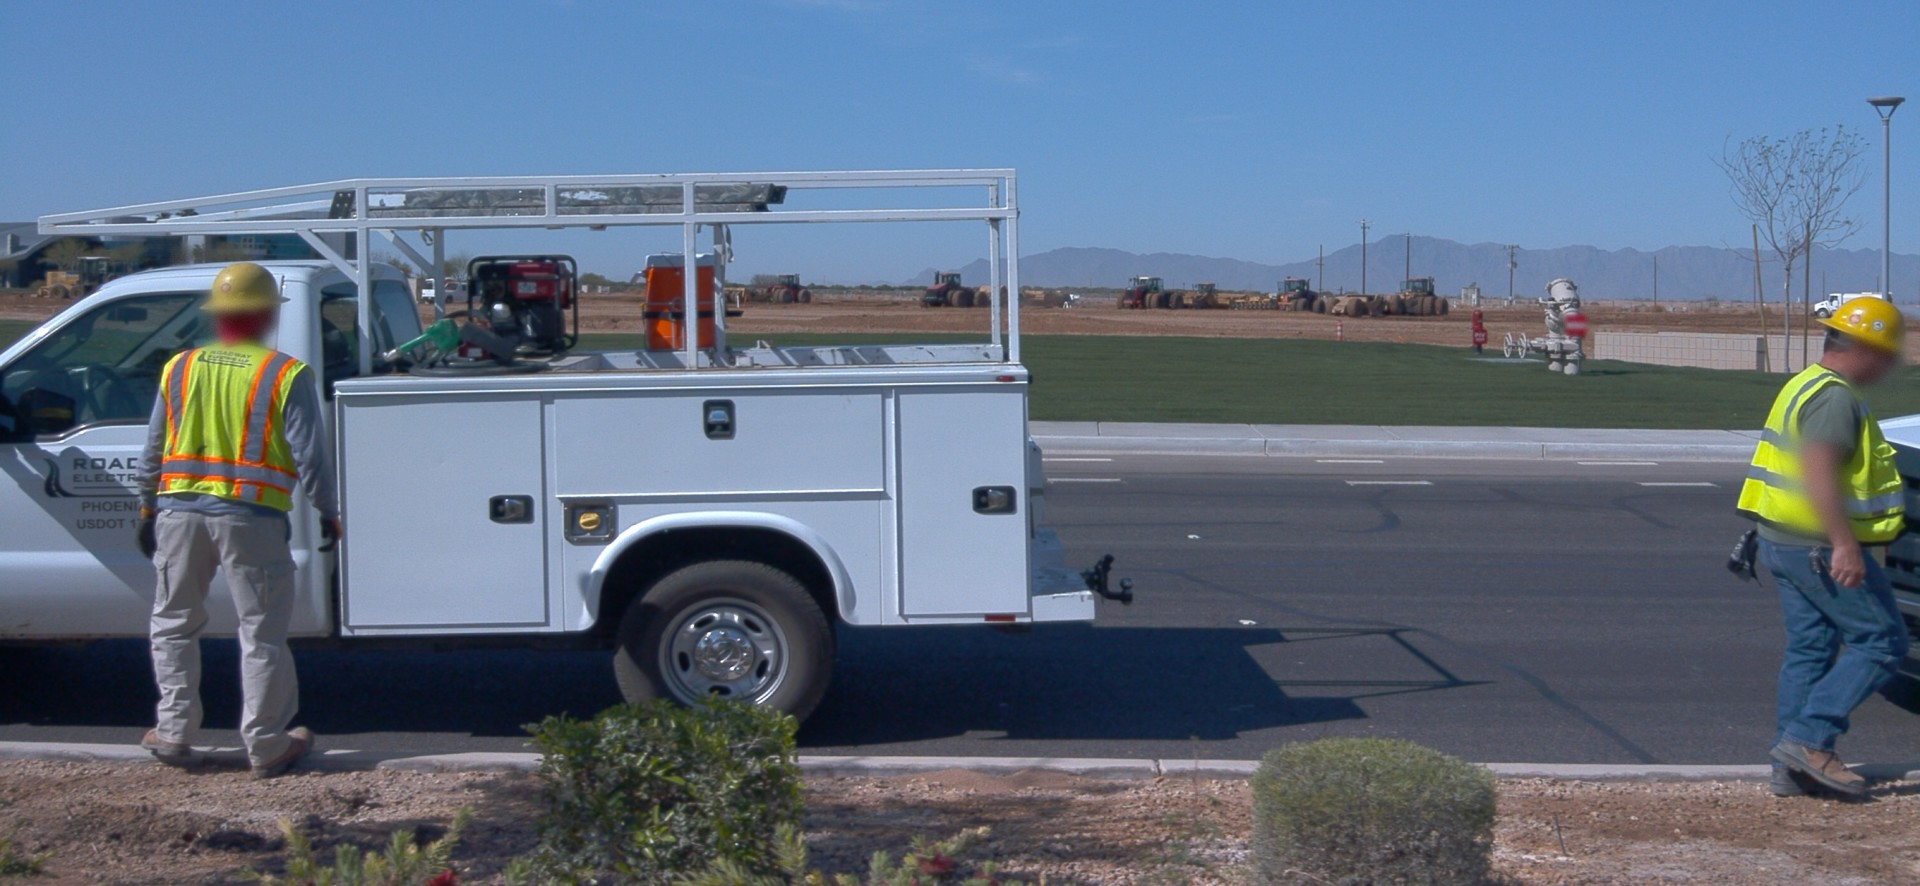TYPE_PEDESTRIAN: (134, 259, 346, 780), (1735, 296, 1912, 807)
TYPE_VEHICLE: (0, 164, 1133, 752), (1839, 411, 1920, 687), (36, 255, 140, 304), (921, 271, 990, 310), (1389, 277, 1452, 318), (1118, 277, 1184, 316), (1813, 290, 1895, 319), (1268, 276, 1326, 315), (757, 273, 815, 308), (418, 284, 483, 308), (1173, 281, 1220, 310), (1325, 294, 1385, 315), (723, 289, 748, 302), (1067, 296, 1080, 299)
